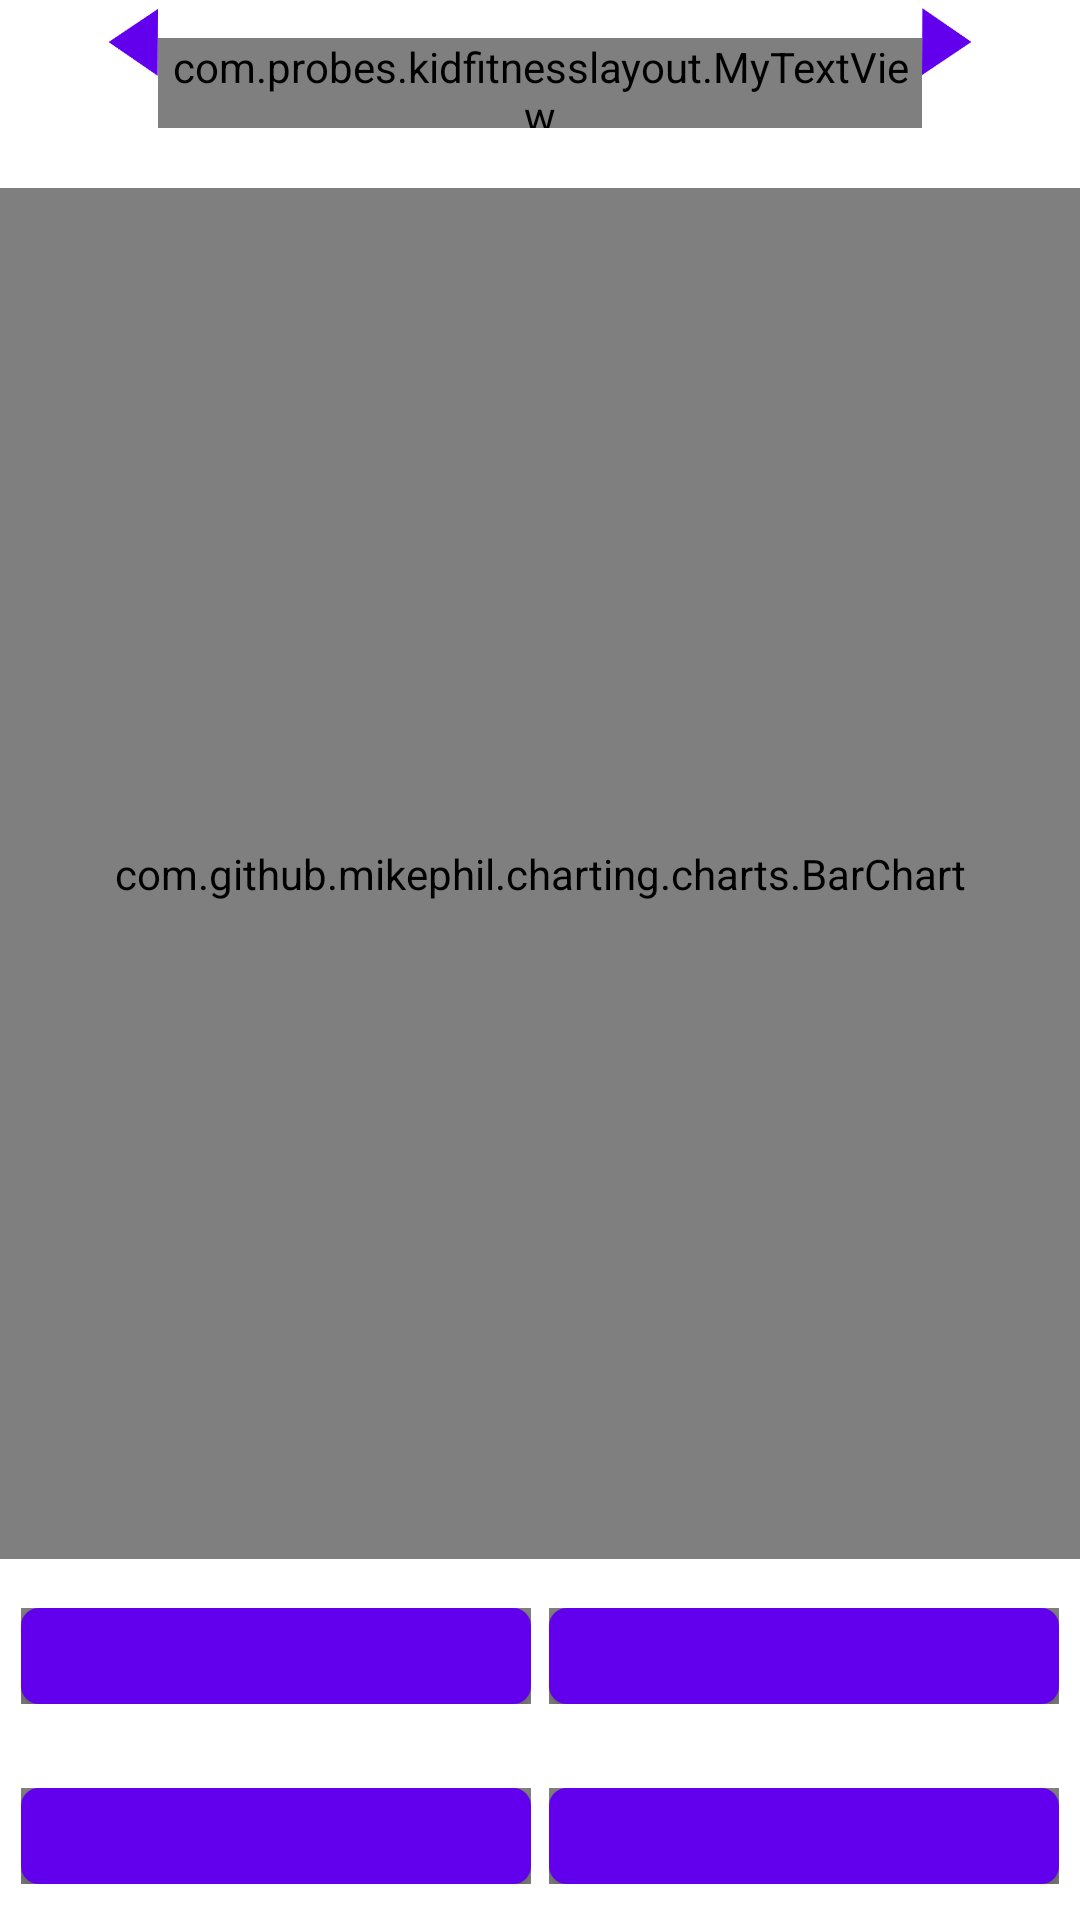

Named icons in this screenshot (1080px x 1920px) and their centers, [x,y]:
arrowleftselector: [133,42]
arrowrightselector: [946,41]
